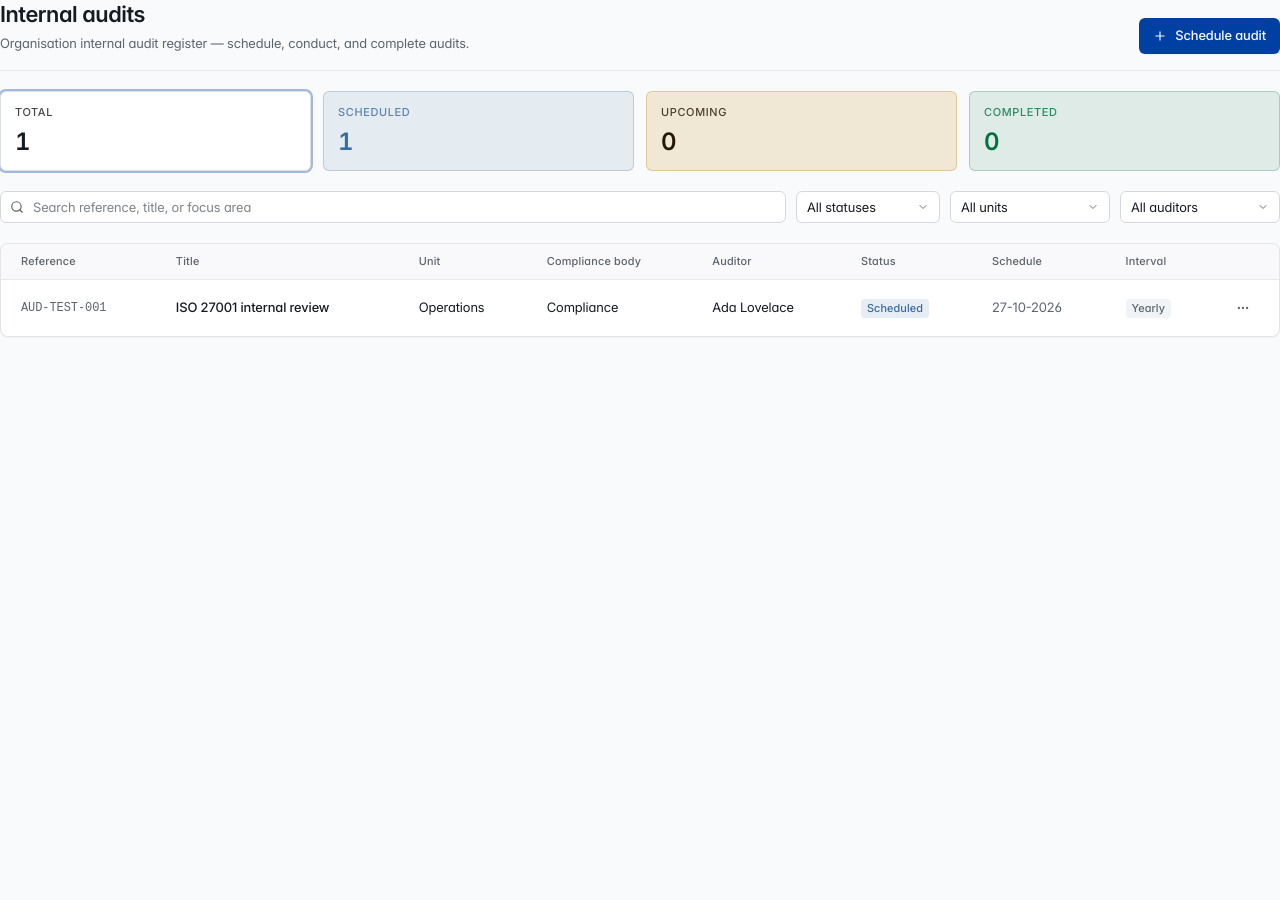
Test: InternalAuditsListPage › opens details with complete and edit actions
This screenshot has width=1280, height=900.
Expected: the text "ISO 27001 internal review" is shown, [160,280,403,336]
Click the button named "actions for iso 27001 internal review".
click(1243, 308)  # box [1227,292,1259,324]
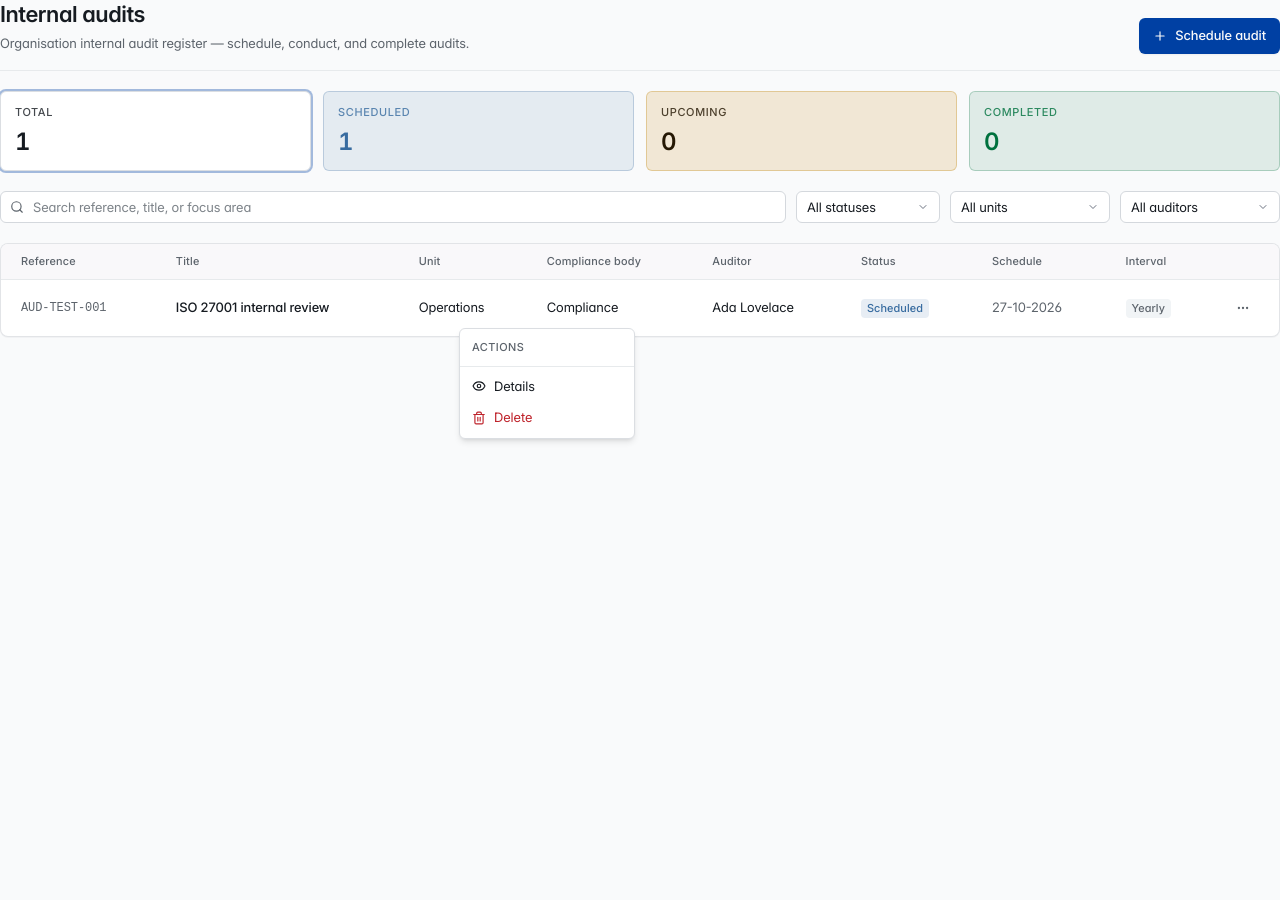
Click the menu item "Details".
click(503, 386)  # box [472,378,535,394]
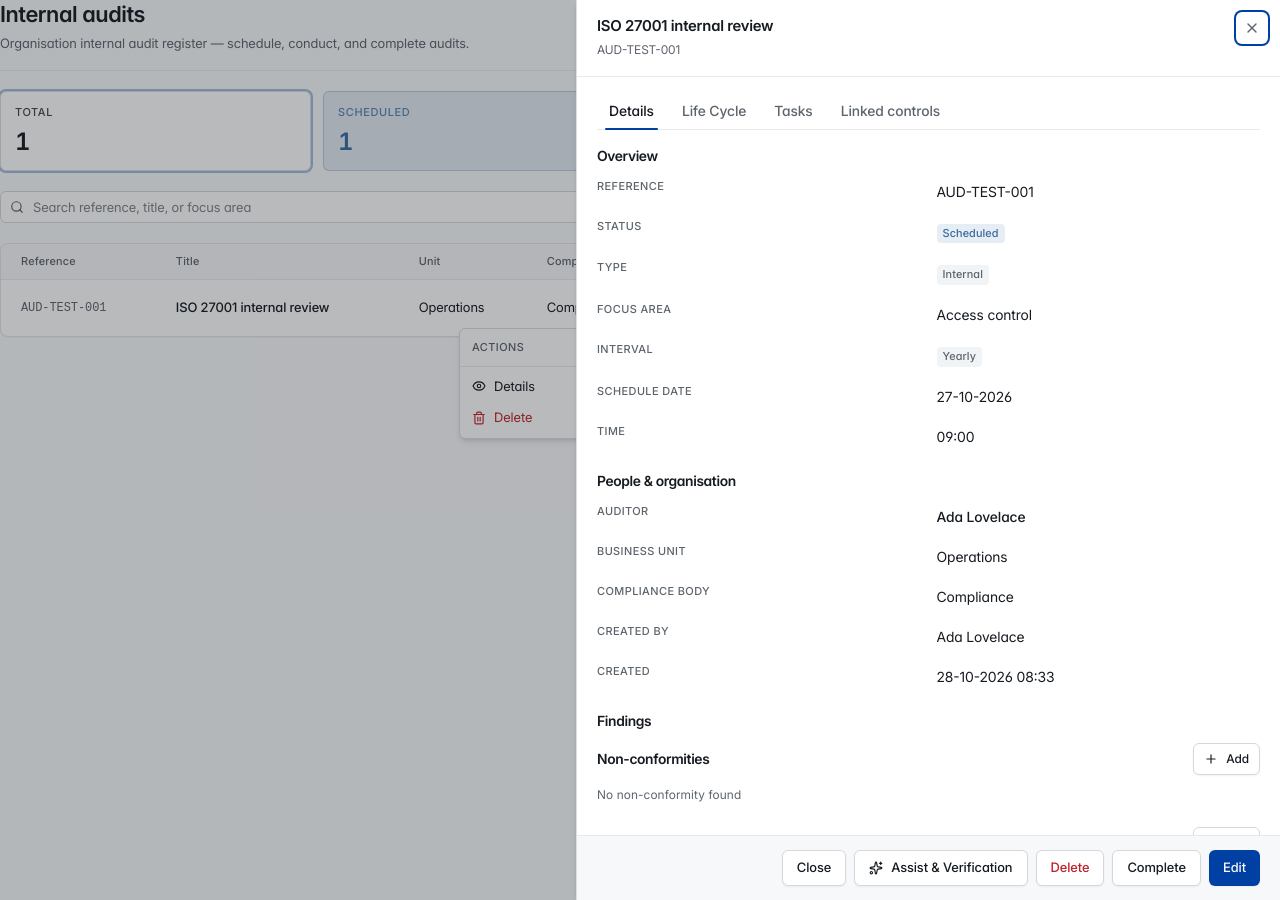
Expected: the button "Edit" is shown, [1209,850,1260,886]
Expected: the button "Complete" is shown, [1112,850,1201,886]
Expected: the tab "Details" is shown, [597,93,666,129]
